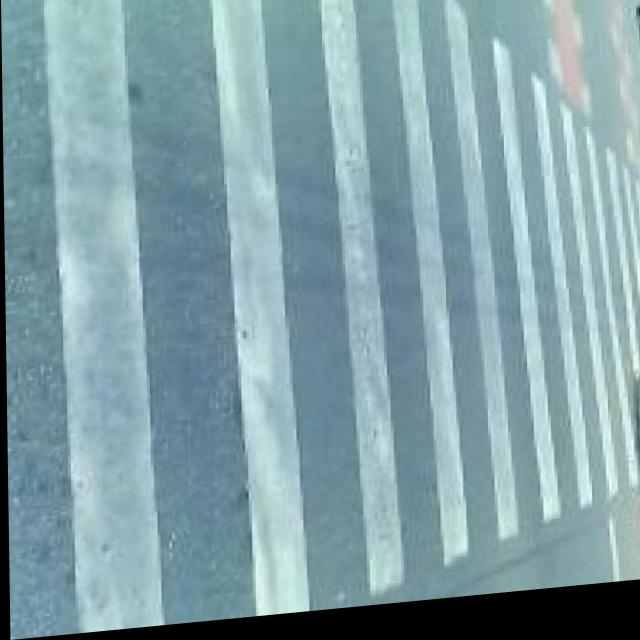zebra: (9, 152, 637, 588)
